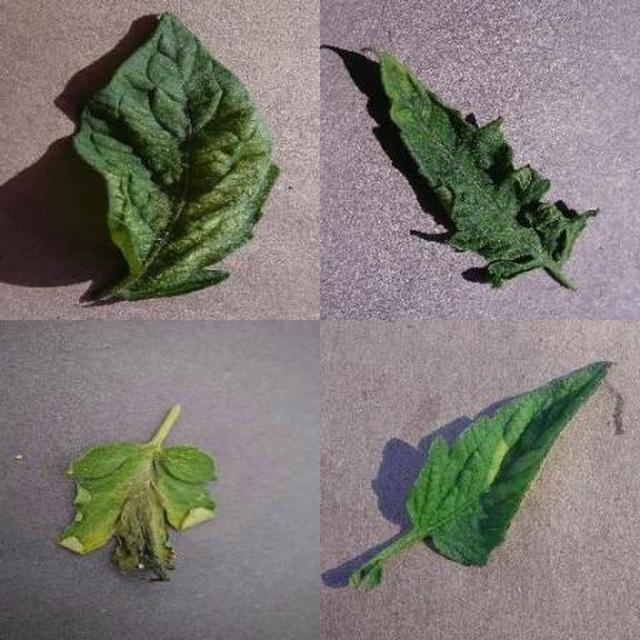Spider Mites Leaf: (201, 210, 640, 640)
